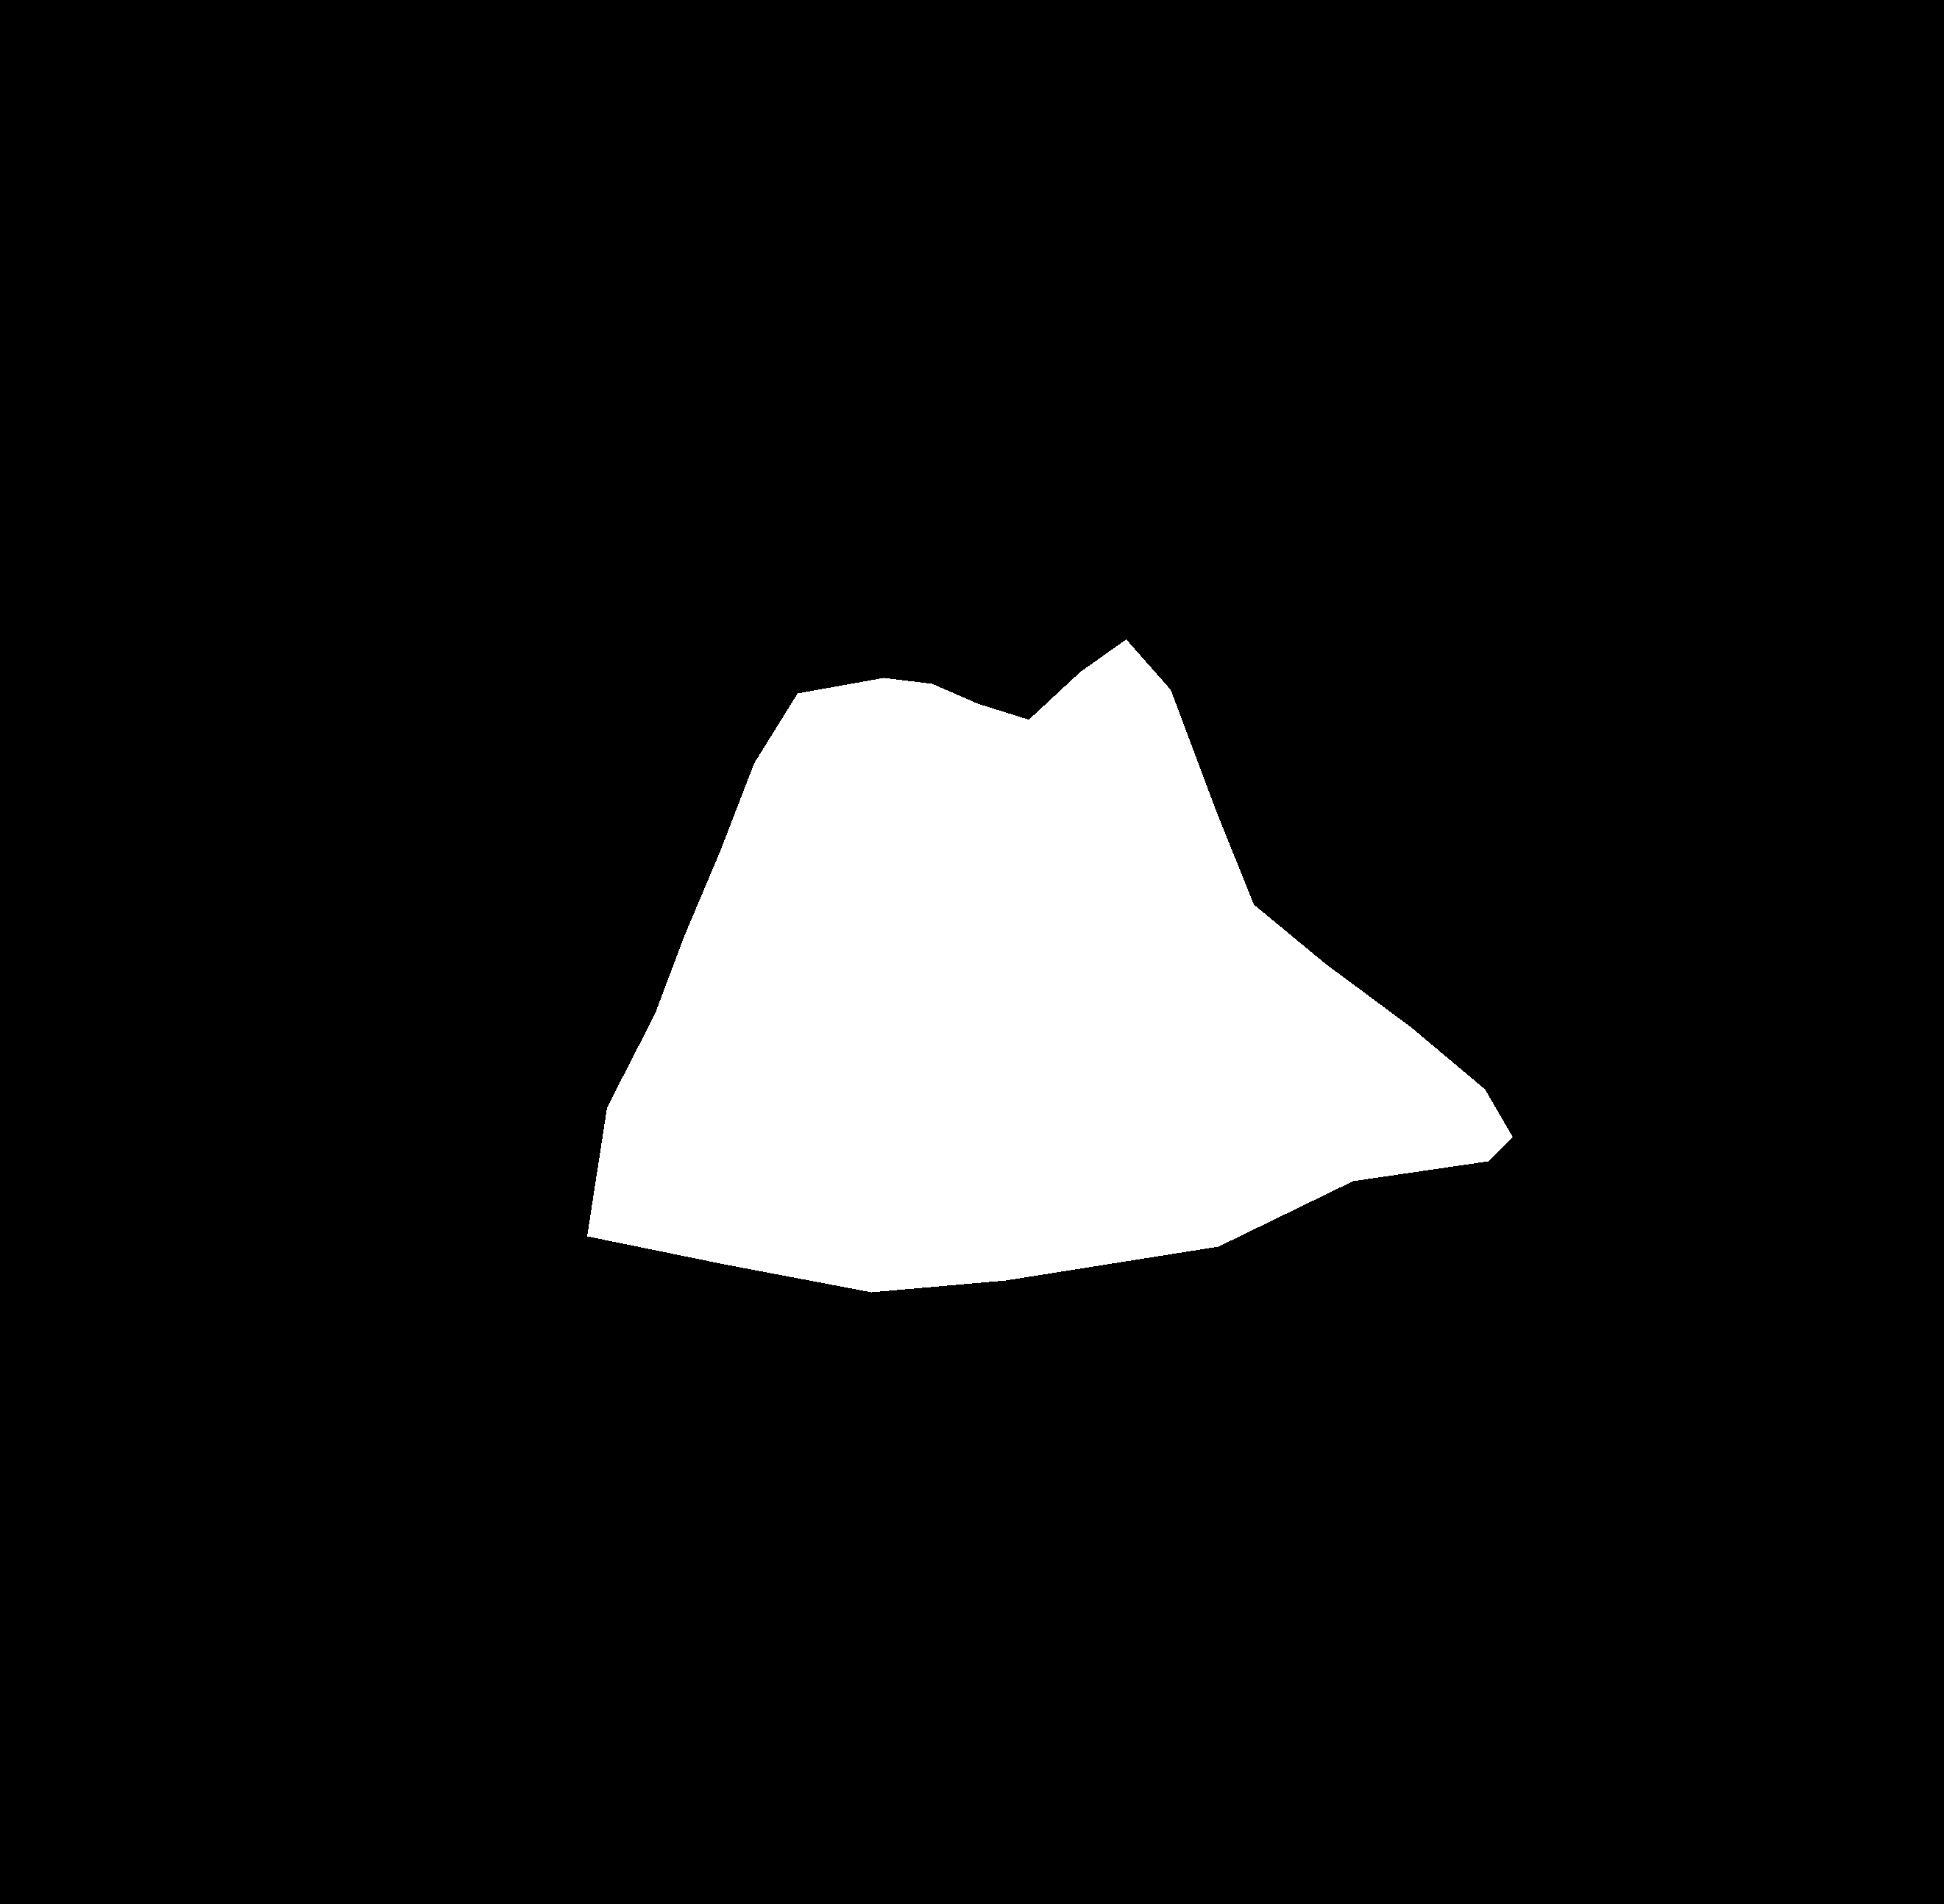heart: (588, 640, 1512, 1292)
left_lung: (197, 244, 863, 1386)
right_lung: (1058, 251, 1625, 1207)
